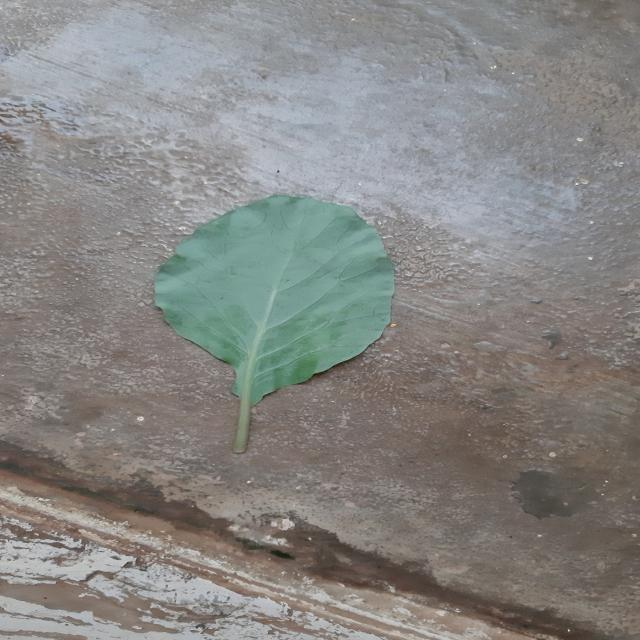Kohlrabi: (156, 195, 393, 452)
